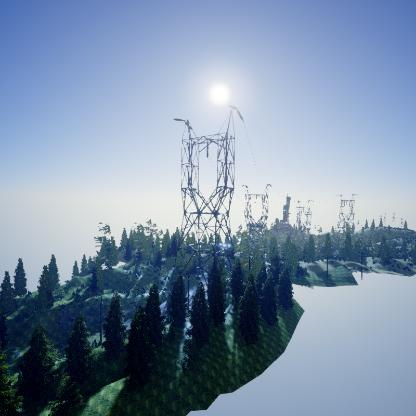tower: (171, 103, 247, 295), (240, 181, 273, 234)
